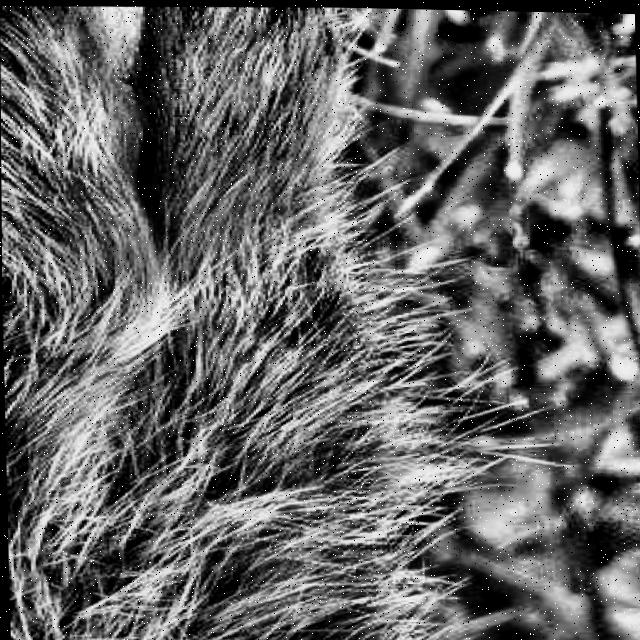rabbit: (0, 0, 623, 640)
